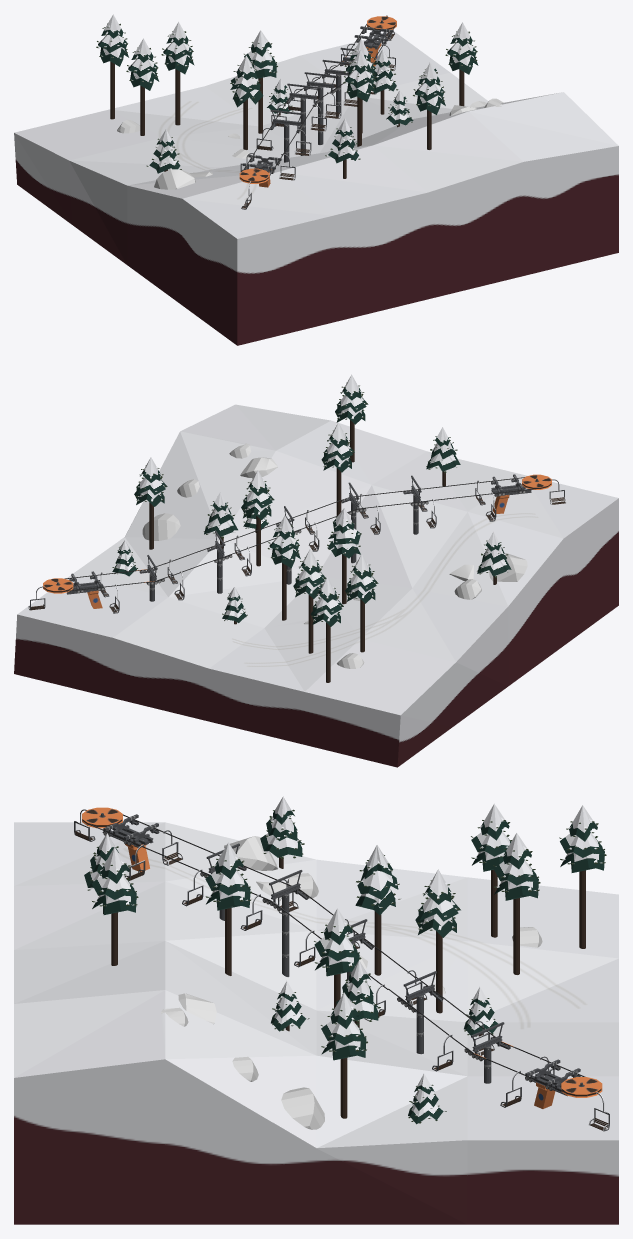
Rendered from Chairlift and Environment.obj.
3 renders of one model, top to bottom at view 1: azimuth 30°, elevation 25°; view 2: azimuth 150°, elevation 25°; view 3: azimuth 270°, elevation 25°, orthographic. The views are drawn at different scales.
Visible parts, largest first — view 1: Ground, Seating, Cairlift, Spruce11, Spruce12, Spruce10, Spruce3, Spruce9, Spruce6, Spruce8, Spruce4, Rollers (+8 smaller); view 2: Ground, Cairlift, Seating, Spruce3, Spruce4, Spruce12, Rollers, Spruce11, Spruce9, Spruce10, Spruce13, Spruce6 (+4 smaller); view 3: Ground, Cairlift, Seating, Spruce12, Spruce11, Spruce6, Spruce9, Spruce3, Spruce4, Spruce8, Spruce13, Spruce10 (+10 smaller).
Boxes of the visible parts, left/top/right/bottom form: Ground: left=14, top=32, right=618, bottom=345; Seating: left=240, top=15, right=395, bottom=209; Cairlift: left=242, top=20, right=395, bottom=187; Spruce11: left=161, top=22, right=194, bottom=125; Spruce12: left=96, top=14, right=128, bottom=119; Spruce10: left=126, top=38, right=159, bottom=135; Spruce3: left=230, top=55, right=263, bottom=149; Spruce9: left=343, top=49, right=375, bottom=146; Spruce6: left=445, top=22, right=478, bottom=106; Spruce8: left=413, top=62, right=445, bottom=149; Spruce4: left=244, top=30, right=277, bottom=133; Rollers: left=239, top=16, right=396, bottom=183; Ground: left=14, top=404, right=618, bottom=767; Cairlift: left=57, top=474, right=540, bottom=608; Seating: left=28, top=479, right=566, bottom=613; Spruce3: left=327, top=508, right=361, bottom=604; Spruce4: left=267, top=515, right=300, bottom=620; Spruce12: left=310, top=577, right=343, bottom=682; Rollers: left=43, top=474, right=551, bottom=593; Spruce11: left=293, top=549, right=326, bottom=653; Spruce9: left=321, top=422, right=354, bottom=515; Spruce10: left=345, top=554, right=378, bottom=652; Spruce13: left=241, top=470, right=274, bottom=566; Spruce6: left=134, top=457, right=167, bottom=549; Ground: left=14, top=822, right=618, bottom=1224; Cairlift: left=88, top=813, right=585, bottom=1108; Seating: left=74, top=809, right=609, bottom=1131; Spruce12: left=559, top=805, right=606, bottom=948; Spruce11: left=493, top=833, right=540, bottom=974; Spruce6: left=320, top=992, right=367, bottom=1118; Spruce9: left=205, top=842, right=251, bottom=975; Spruce3: left=355, top=845, right=400, bottom=975; Spruce4: left=415, top=869, right=460, bottom=1013; Spruce8: left=91, top=847, right=138, bottom=965; Spruce13: left=314, top=908, right=361, bottom=1008; Spruce10: left=471, top=804, right=511, bottom=937.
Size of the model in its own units: 1925 by 960 by 1909.
2 materials, 2 textured.
